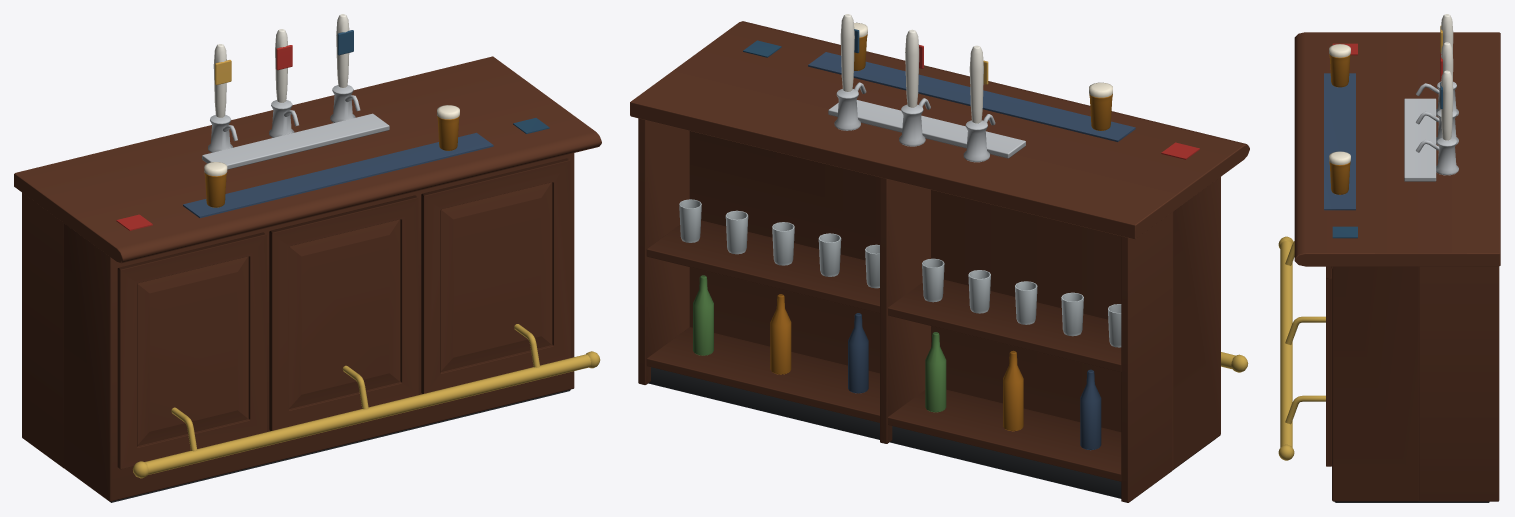
File: barCounter.glb
3 renders of one model, left to right at view 1: azimuth 30°, elevation 25°; view 2: azimuth 150°, elevation 25°; view 3: azimuth 270°, elevation 25°, orthographic. The views are drawn at different scales.
Visible parts, largest first — view 1: bar; view 2: bar; view 3: bar.
Part boxes in pixels (x1=…): bar: x1=14, y1=14, x2=601, y2=502; bar: x1=630, y1=14, x2=1249, y2=502; bar: x1=1278, y1=14, x2=1500, y2=502.
Size of the model in its own units: 1.96 by 1.46 by 0.83.
